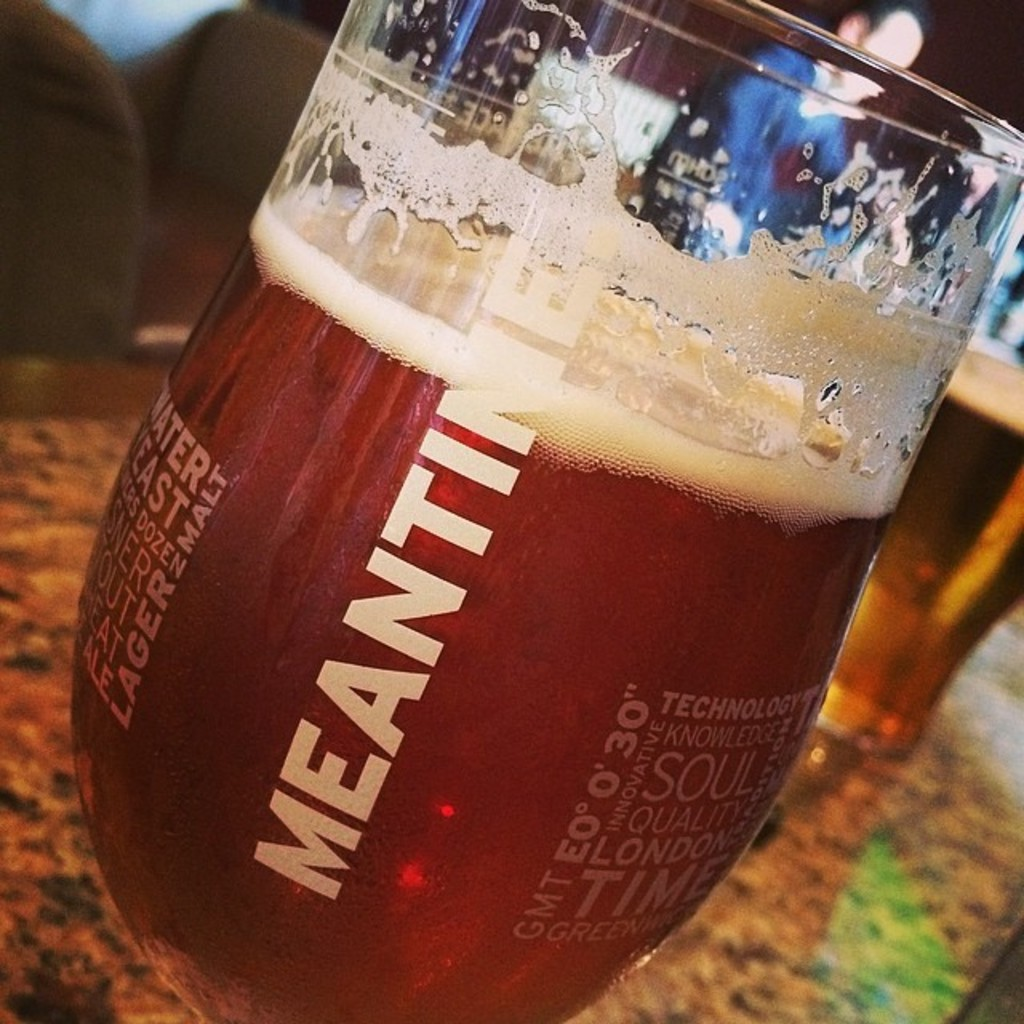Beer: (60, 0, 1022, 1022)
